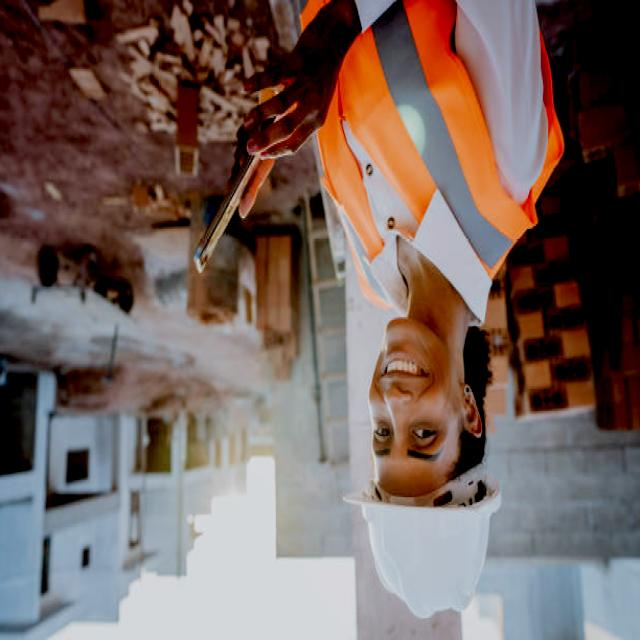Hard Hat: (343, 434, 508, 624)
Reflective Vest: (304, 7, 572, 296)
